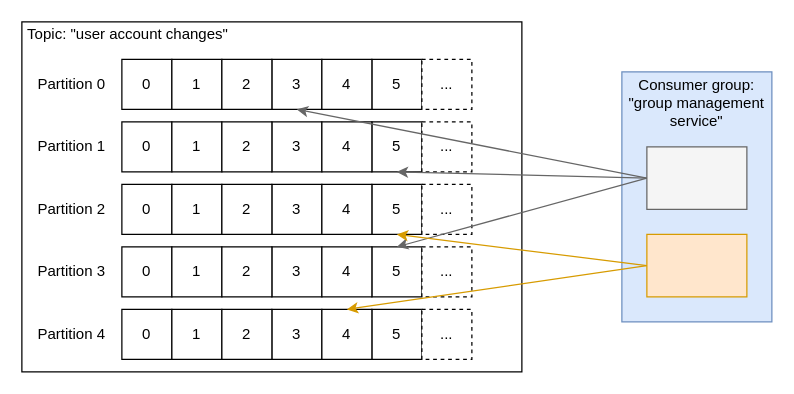
The diagram is 794 pixels wide and 394 high, and some of its shapes have lost their labels. The shapes that lost their labels are listed below. From the top down, each one's centre as x and y in pixels, then its label:
At (x=696, y=177): "Consumer 0".
At (x=696, y=265): "Consumer 1".
